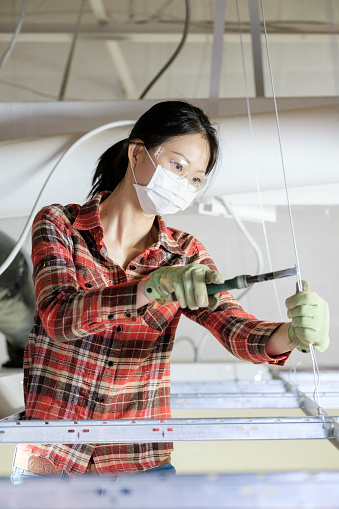em pe: (7, 102, 312, 457)
